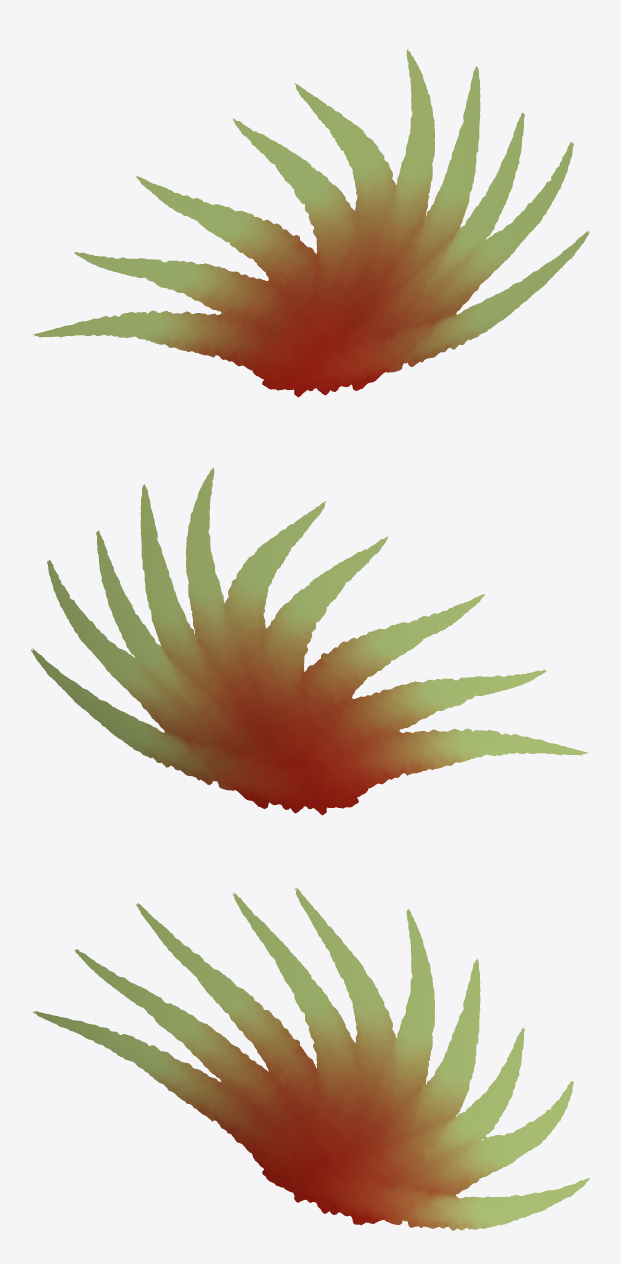
Rendered from painted-weed-071.glb.
3 renders of one model, top to bottom at view 1: azimuth 30°, elevation 25°; view 2: azimuth 150°, elevation 25°; view 3: azimuth 330°, elevation 25°, orthographic.
Size of the model in its own units: 10.08 by 5.93 by 0.04.
1 material, 1 textured.
